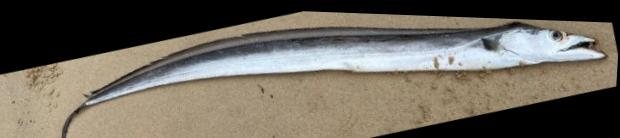fish: (64, 17, 606, 138)
